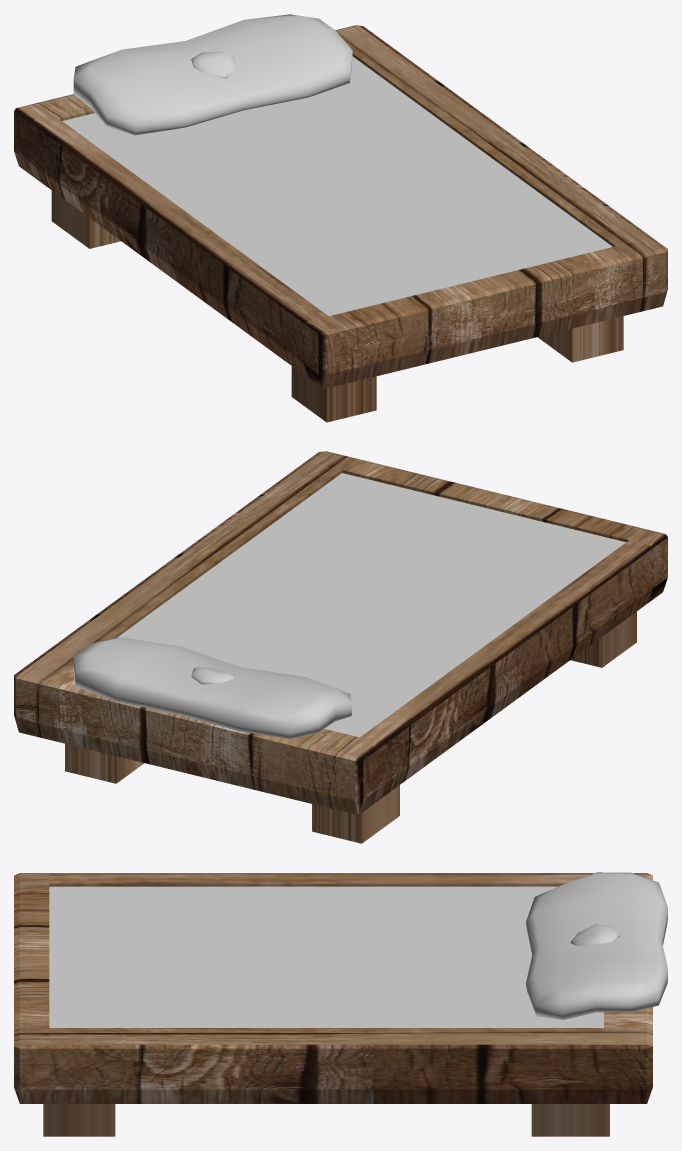
The model's file is my_bed.fbx.
3 views of the same model, one above another, from view 1: azimuth 30°, elevation 25°; view 2: azimuth 150°, elevation 25°; view 3: azimuth 270°, elevation 25° (orthographic). The views are drawn at different scales.
Parts seen in each view (by area): view 1: polySurface2, polySurface3, polySurface1; view 2: polySurface2, polySurface3, polySurface1; view 3: polySurface3, polySurface2, polySurface1.
Part boxes in pixels (x1,y1,x2,y2): polySurface2: (14,25,667,422); polySurface3: (62,56,612,315); polySurface1: (73,14,352,135); polySurface2: (14,451,667,843); polySurface3: (117,473,625,737); polySurface1: (73,637,352,738); polySurface3: (49,886,603,1027); polySurface2: (14,873,652,1136); polySurface1: (526,872,667,1019).
Size of the model in its own units: 19.07 by 7.04 by 30.04.
